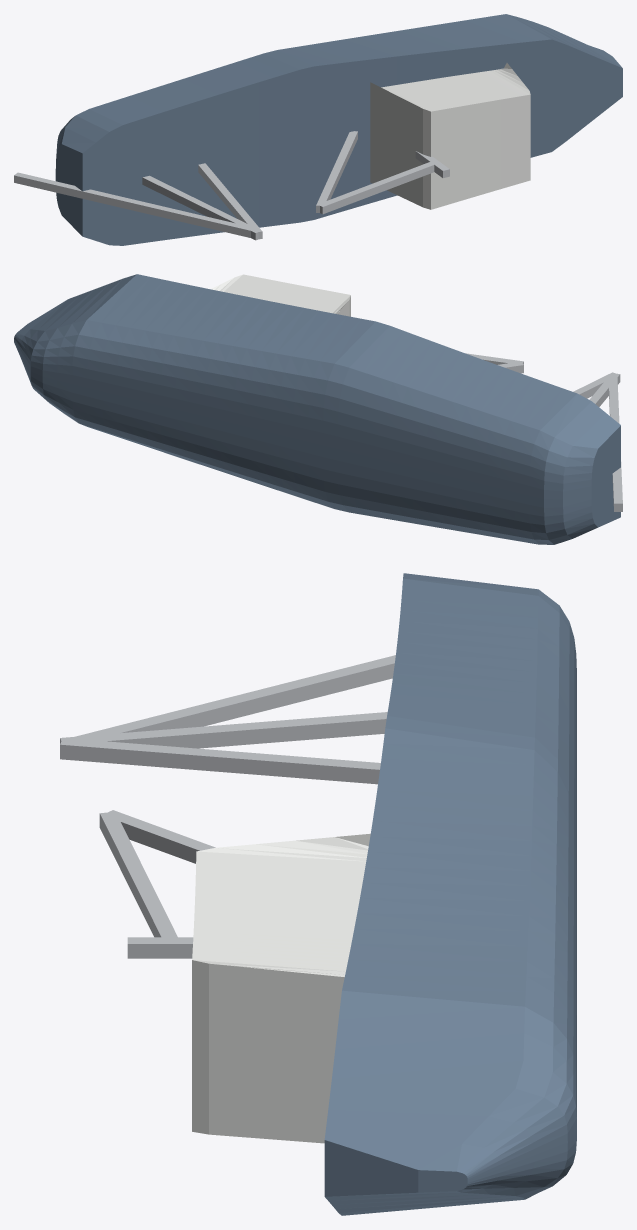
File: fishing-gear-loft-highside.glb
3 renders of one model, top to bottom at view 1: azimuth 30°, elevation 25°; view 2: azimuth 150°, elevation 25°; view 3: azimuth 270°, elevation 25°, orthographic. The views are drawn at different scales.
Visible parts, largest first — view 1: fishing-gear-loft-highside; view 2: fishing-gear-loft-highside; view 3: fishing-gear-loft-highside.
Part boxes in pixels (box(x1,y1,x2,y2)): fishing-gear-loft-highside: box(14, 14, 622, 245); fishing-gear-loft-highside: box(14, 274, 622, 544); fishing-gear-loft-highside: box(60, 573, 576, 1215).
Size of the model in its own units: 1.95 by 0.503 by 0.7672.
